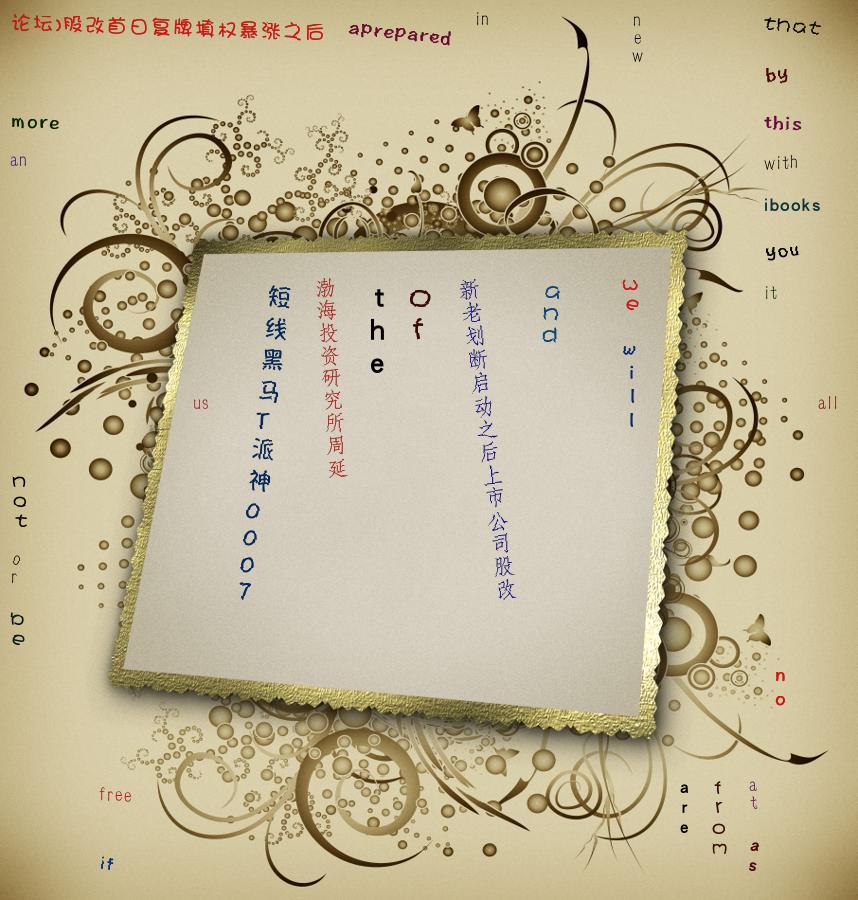h_text: (10, 10, 326, 42), (347, 10, 454, 48), (763, 11, 822, 35), (10, 106, 60, 130), (763, 232, 801, 262), (763, 193, 820, 211), (763, 107, 803, 131), (763, 56, 790, 86), (763, 152, 799, 172), (98, 784, 133, 804), (817, 393, 839, 411), (98, 851, 116, 871), (192, 393, 210, 411), (10, 151, 27, 167), (763, 283, 778, 301), (475, 10, 489, 26)
v_text: (457, 277, 519, 603), (236, 277, 293, 602), (314, 277, 349, 479), (406, 277, 436, 340), (540, 277, 562, 343), (370, 277, 385, 373), (621, 332, 636, 428), (710, 775, 727, 855), (10, 468, 30, 528), (629, 10, 644, 64), (621, 271, 640, 311), (774, 659, 787, 707), (10, 606, 25, 646), (680, 775, 689, 833), (748, 832, 761, 872), (10, 549, 22, 585), (748, 775, 758, 811)
